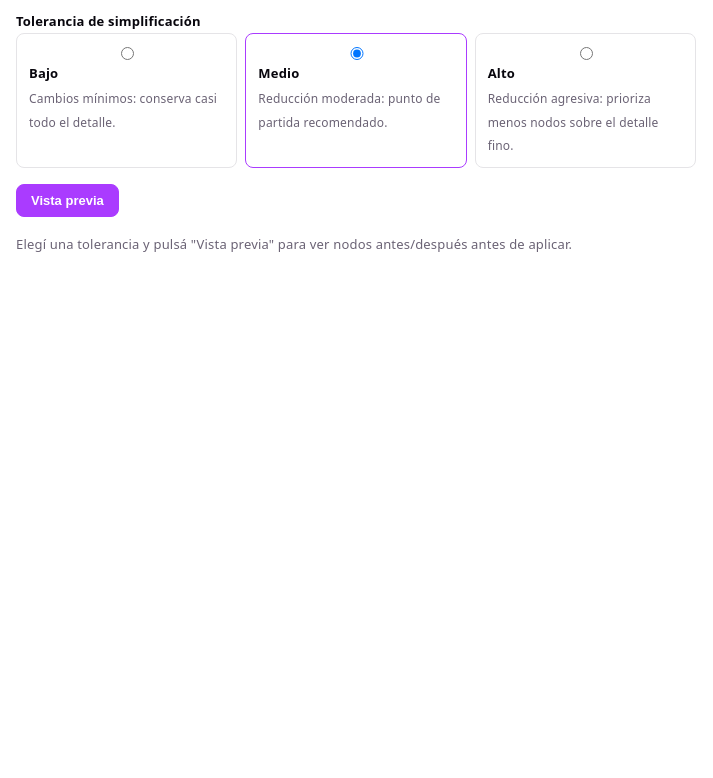
SimplifyPanel — aplicar › Aplicar persiste la simplificación y muestra la versión creada
The image size is (713, 778).
Click the button "Vista previa": click(67, 200) [16,184,119,217]
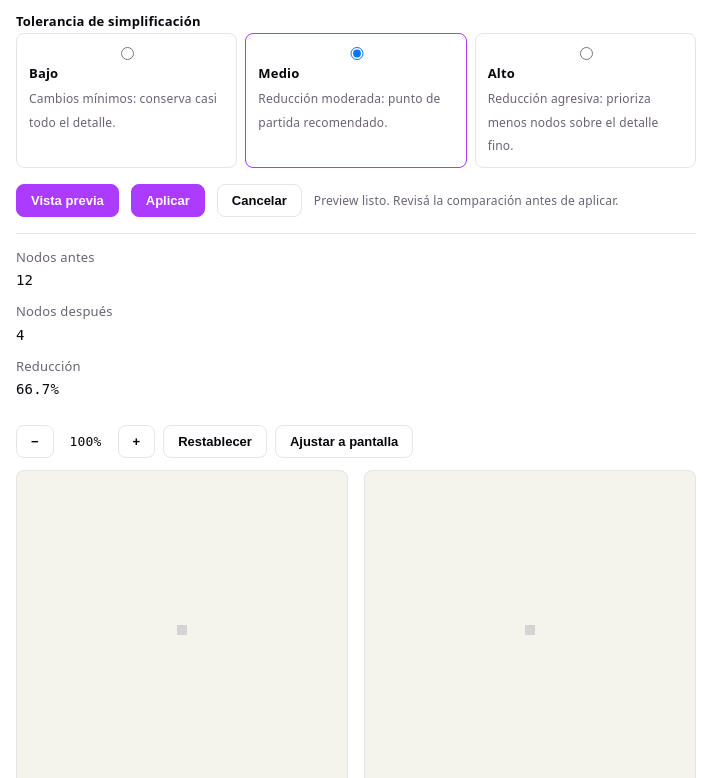
Result: the button "Aplicar" is shown
Click the button "Aplicar": click(168, 200) [131,184,205,217]
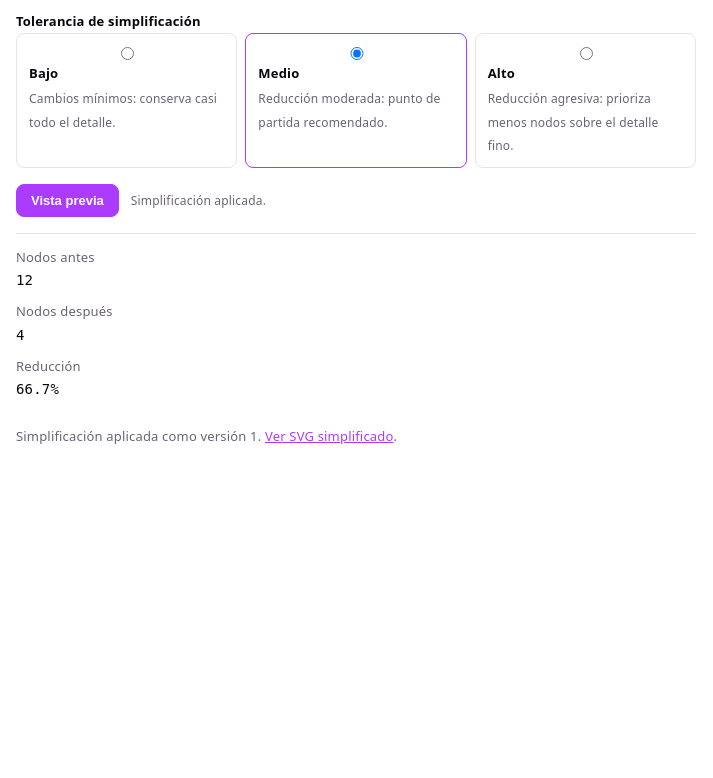
Result: the text "Simplificación aplicada como versión 1" is shown at [16,427,397,445]
Result: the button "Aplicar" is gone
